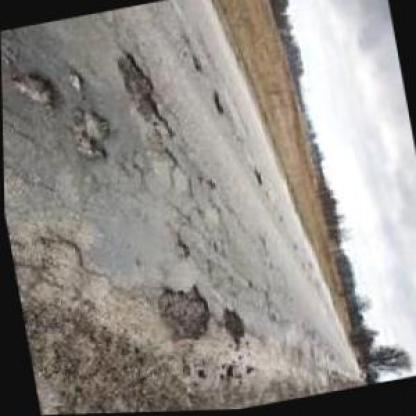pothole: (115, 44, 178, 144), (153, 282, 212, 350), (65, 104, 115, 164), (7, 65, 60, 115), (218, 305, 247, 350), (67, 69, 86, 96)
